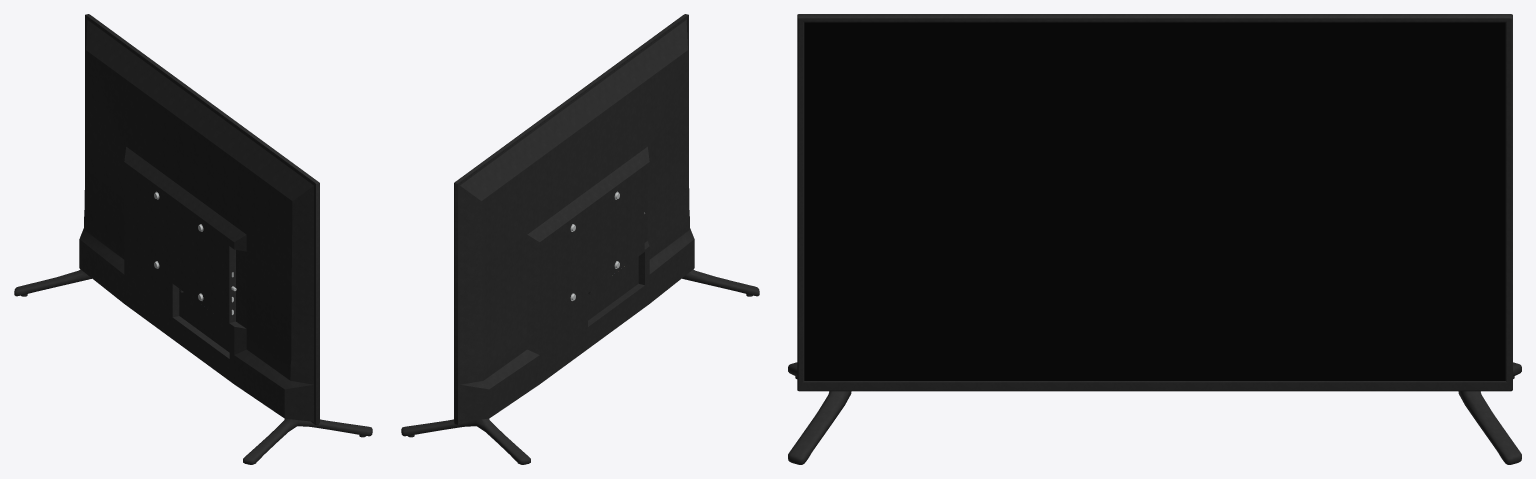
3 renders of one model, left to right at view 1: azimuth 30°, elevation 25°; view 2: azimuth 150°, elevation 25°; view 3: azimuth 270°, elevation 25°, orthographic. The views are drawn at different scales.
Parts seen in each view (by area): view 1: TV; view 2: TV; view 3: TV.
Part boxes in pixels (left/top/right/bottom): TV: left=14, top=14, right=372, bottom=464; TV: left=401, top=14, right=759, bottom=464; TV: left=788, top=14, right=1521, bottom=464.
Size of the model in its own units: 0.3658 by 0.7162 by 1.16.
Materials: 1 (1 with a texture image).
